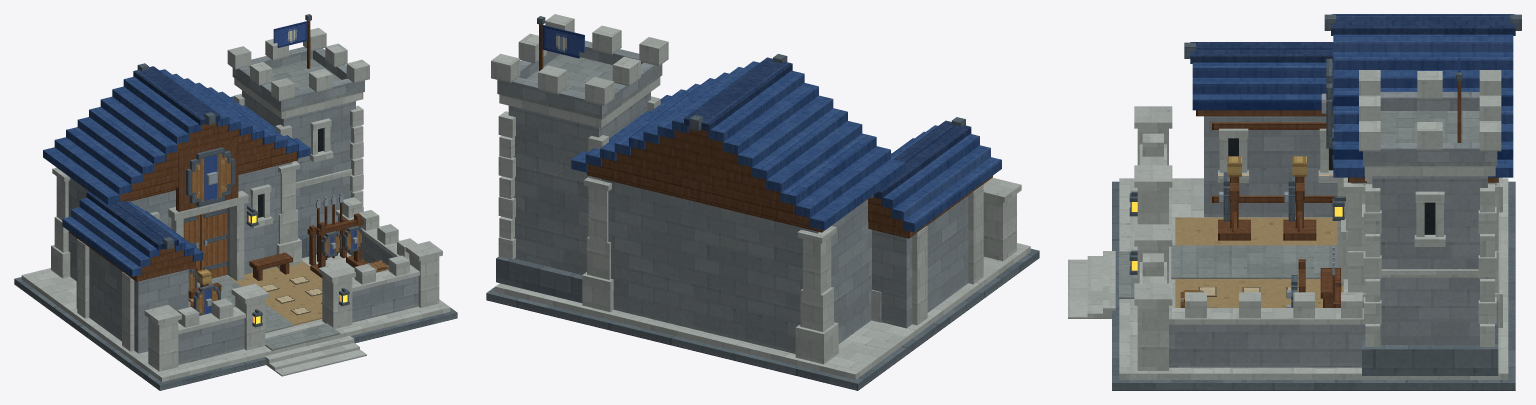
File: guardian_hall_v1.glb
3 views of the same model, side by side, from view 1: azimuth 30°, elevation 25°; view 2: azimuth 150°, elevation 25°; view 3: azimuth 270°, elevation 25° (orthographic). The views are drawn at different scales.
Visible parts, largest first — view 1: Guardian_Hall_V1_Roofs, Guardian_Hall_V1_Courtyard, Guardian_Hall_V1_Hall, Guardian_Hall_V1_Watchtower, Guardian_Hall_V1_Foundation, Guardian_Hall_V1_Heraldry, Guardian_Hall_V1_Training, Guardian_Hall_V1_Details; view 2: Guardian_Hall_V1_Hall, Guardian_Hall_V1_Roofs, Guardian_Hall_V1_Watchtower, Guardian_Hall_V1_Foundation, Guardian_Hall_V1_Courtyard, Guardian_Hall_V1_Heraldry; view 3: Guardian_Hall_V1_Watchtower, Guardian_Hall_V1_Courtyard, Guardian_Hall_V1_Roofs, Guardian_Hall_V1_Foundation, Guardian_Hall_V1_Hall, Guardian_Hall_V1_Training, Guardian_Hall_V1_Details, Guardian_Hall_V1_Heraldry.
Boxes of the visible parts, bbox=[...] form: Guardian_Hall_V1_Roofs: bbox=[43, 63, 310, 276]; Guardian_Hall_V1_Courtyard: bbox=[144, 197, 442, 371]; Guardian_Hall_V1_Hall: bbox=[51, 158, 301, 353]; Guardian_Hall_V1_Watchtower: bbox=[227, 28, 369, 257]; Guardian_Hall_V1_Foundation: bbox=[14, 252, 457, 390]; Guardian_Hall_V1_Heraldry: bbox=[176, 14, 311, 211]; Guardian_Hall_V1_Training: bbox=[188, 193, 367, 315]; Guardian_Hall_V1_Details: bbox=[150, 184, 388, 327]; Guardian_Hall_V1_Hall: bbox=[582, 172, 992, 364]; Guardian_Hall_V1_Roofs: bbox=[571, 54, 1001, 232]; Guardian_Hall_V1_Watchtower: bbox=[491, 14, 668, 302]; Guardian_Hall_V1_Foundation: bbox=[486, 243, 1039, 390]; Guardian_Hall_V1_Courtyard: bbox=[891, 153, 1021, 260]; Guardian_Hall_V1_Heraldry: bbox=[537, 16, 584, 70]; Guardian_Hall_V1_Watchtower: bbox=[1359, 70, 1501, 375]; Guardian_Hall_V1_Courtyard: bbox=[1119, 106, 1365, 370]; Guardian_Hall_V1_Roofs: bbox=[1184, 14, 1521, 177]; Guardian_Hall_V1_Foundation: bbox=[1068, 178, 1515, 390]; Guardian_Hall_V1_Hall: bbox=[1196, 110, 1502, 327]; Guardian_Hall_V1_Training: bbox=[1198, 156, 1341, 307]; Guardian_Hall_V1_Details: bbox=[1129, 128, 1347, 307]; Guardian_Hall_V1_Heraldry: bbox=[1321, 58, 1462, 148].
Size of the model in its own units: 9.85 by 6.83 by 9.33.
1 material, 1 textured.
